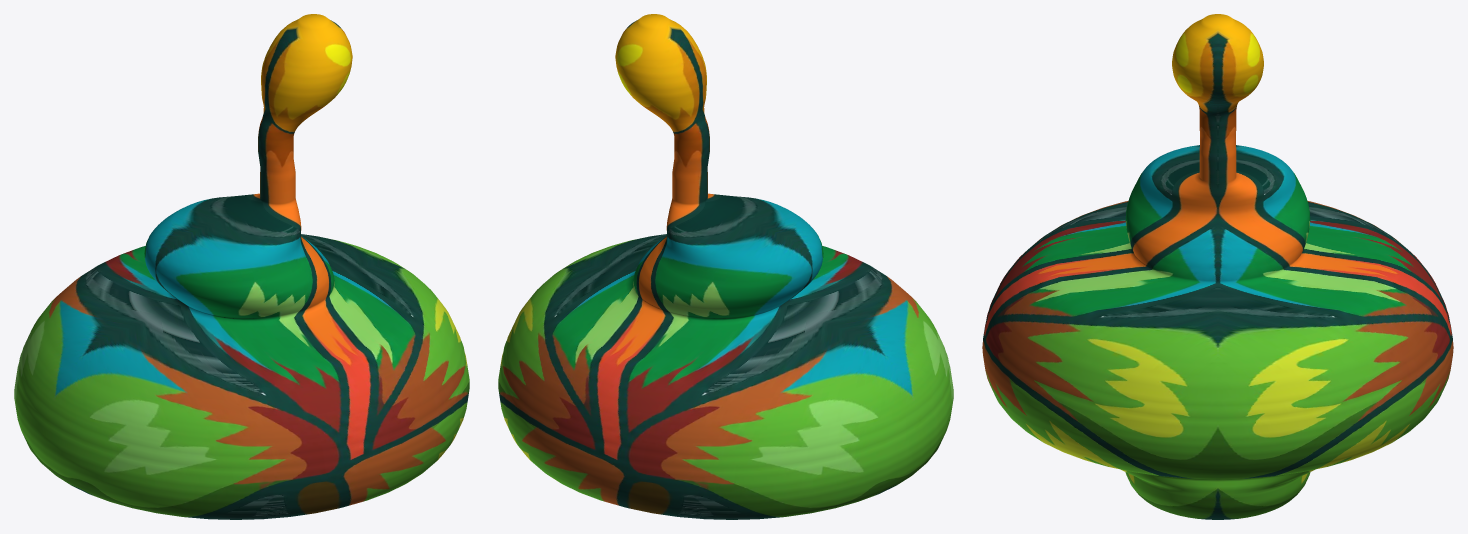
File: yellow_stalk_plant.glb
3 views of the same model, side by side, from view 1: azimuth 30°, elevation 25°; view 2: azimuth 150°, elevation 25°; view 3: azimuth 270°, elevation 25° (orthographic). The views are drawn at different scales.
Parts seen in each view (by area): view 1: yellow_stalk_plant; view 2: yellow_stalk_plant; view 3: yellow_stalk_plant.
Part boxes in pixels (x1,y1,x2,y2): yellow_stalk_plant: (14, 14, 469, 519); yellow_stalk_plant: (498, 14, 953, 519); yellow_stalk_plant: (982, 14, 1453, 519).
Bounding box in the file's own units: 1 × 1.14 × 0.9992.
1 material, 1 textured.
